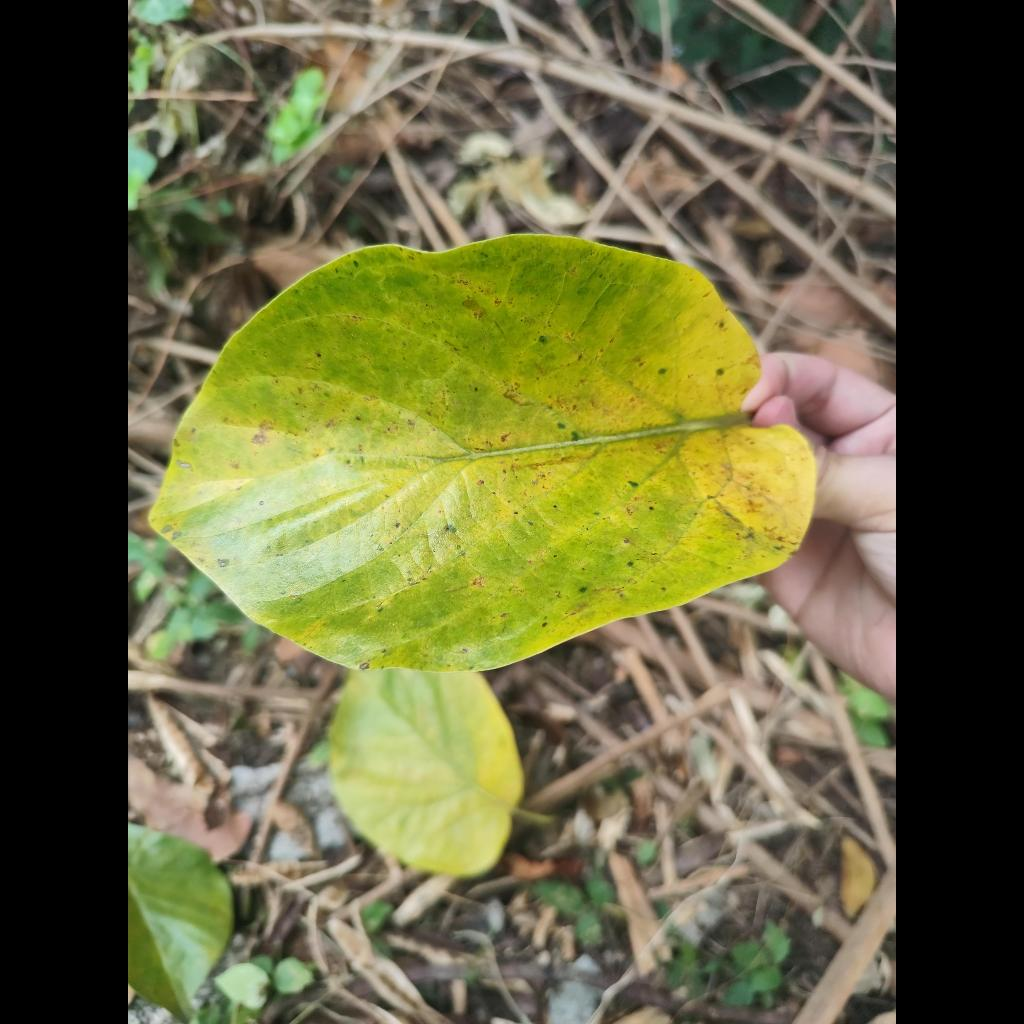nutrient_deficiency: (152, 235, 816, 673)
